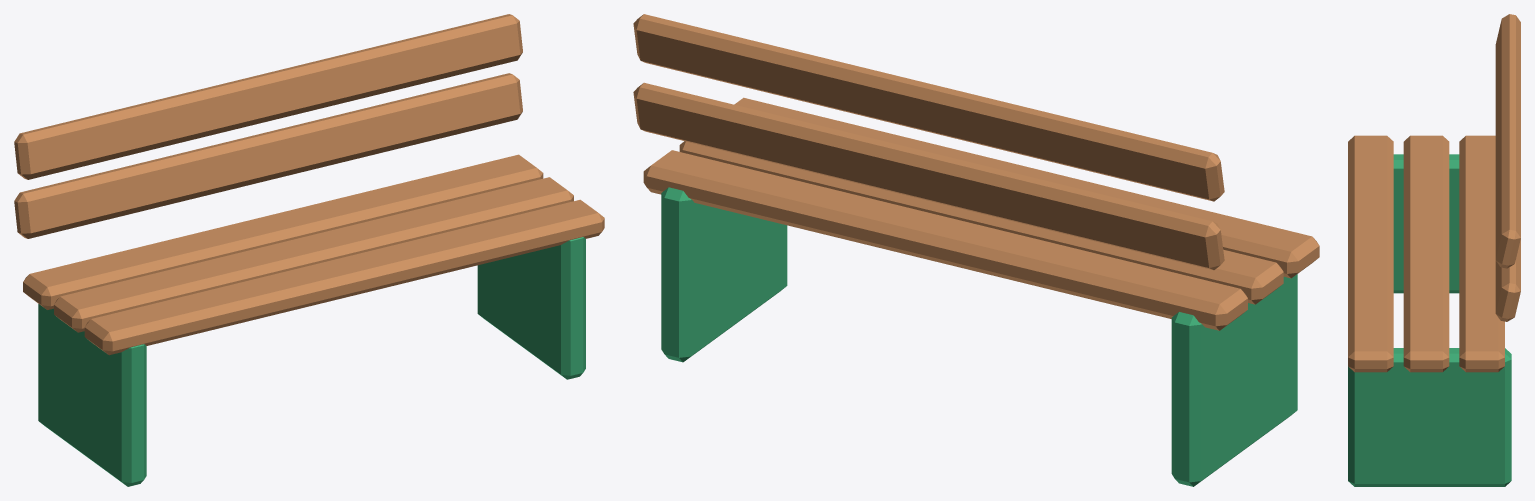
The model's file is prop_bench.glb.
3 renders of one model, left to right at view 1: azimuth 30°, elevation 25°; view 2: azimuth 150°, elevation 25°; view 3: azimuth 270°, elevation 25°, orthographic. The views are drawn at different scales.
Parts seen in each view (by area): view 1: prop_bench; view 2: prop_bench; view 3: prop_bench.
Part boxes in pixels (x1,y1,x2,y2): prop_bench: (14,14,604,486); prop_bench: (633,14,1319,486); prop_bench: (1348,14,1520,486).
Bounding box in the file's own units: 1.6 × 0.8957 × 0.5287.
